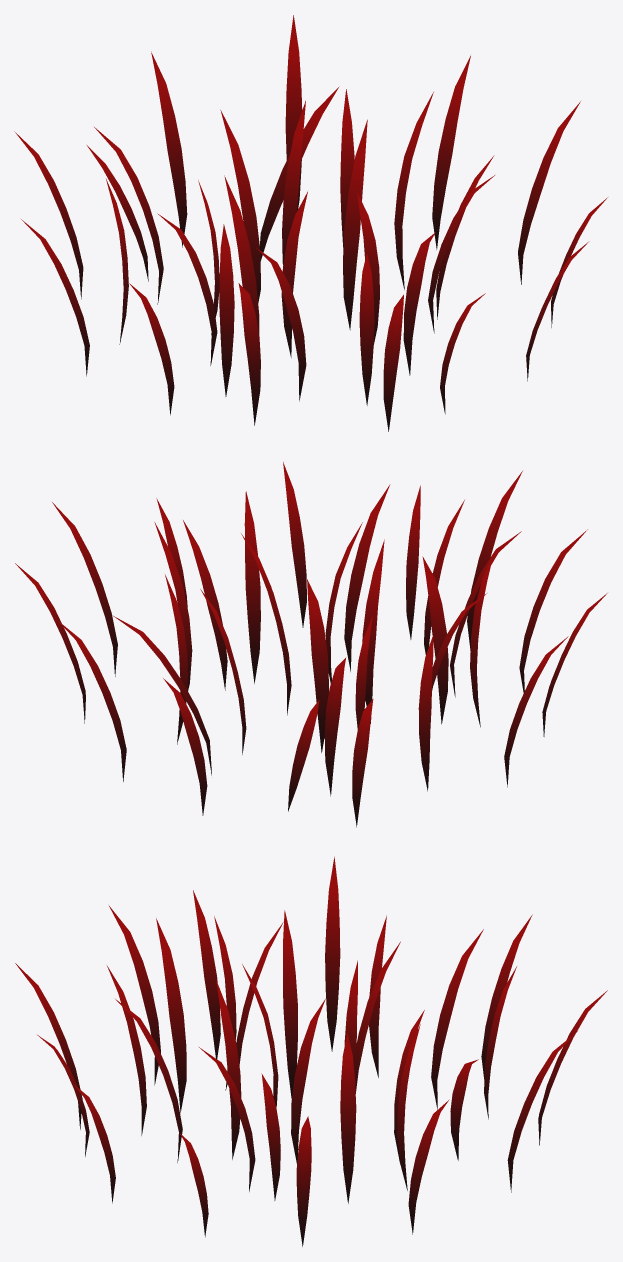
Rendered from Grass2.fbx.
3 renders of one model, top to bottom at view 1: azimuth 30°, elevation 25°; view 2: azimuth 150°, elevation 25°; view 3: azimuth 270°, elevation 25°, orthographic. The views are drawn at different scales.
Parts seen in each view (by area): view 1: Grass; view 2: Grass; view 3: Grass.
Part boxes in pixels (bbox=[...]): Grass: bbox=[14, 15, 607, 431]; Grass: bbox=[15, 462, 607, 827]; Grass: bbox=[15, 856, 607, 1246].
Size of the model in its own units: 3.79 by 1.33 by 3.74.
